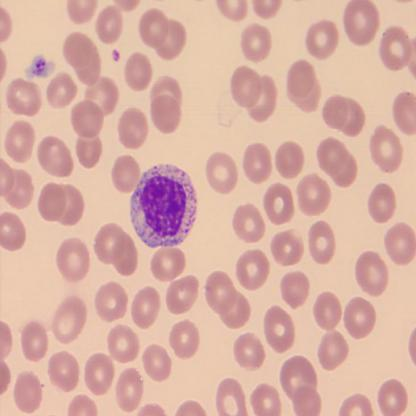Metamyelocyte: (128, 159, 199, 250)
